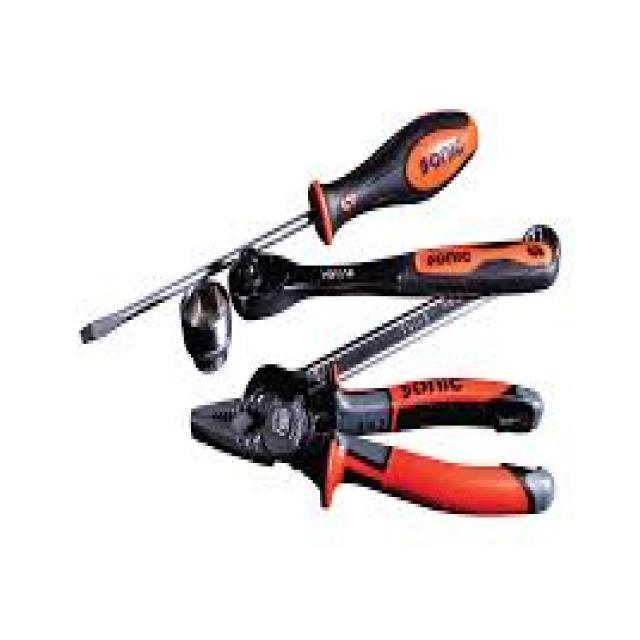pliers: (183, 362, 564, 524)
screwdriver: (67, 104, 482, 352)
wrench: (229, 241, 562, 321)
